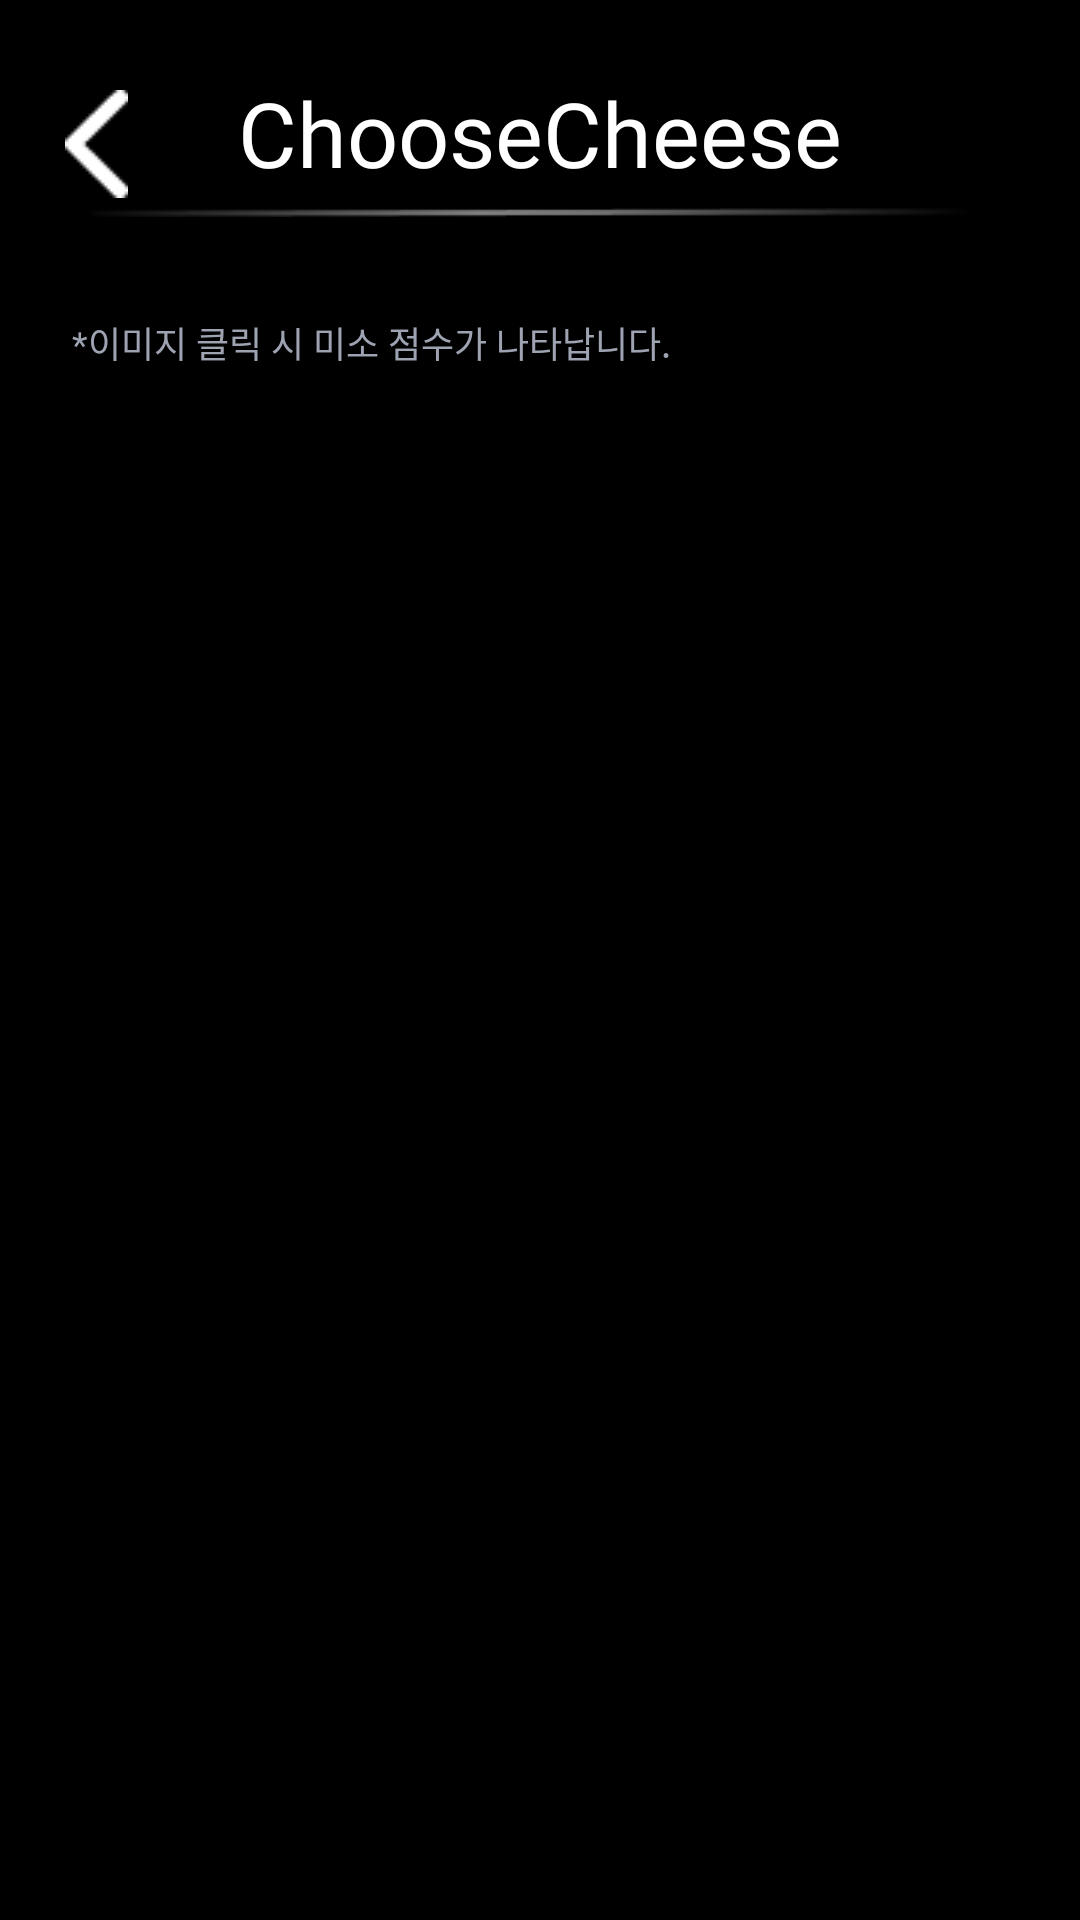

Icon click points for this 1080w x 1920h phone screenshot, format point (x, y):
back: point (96, 144)
